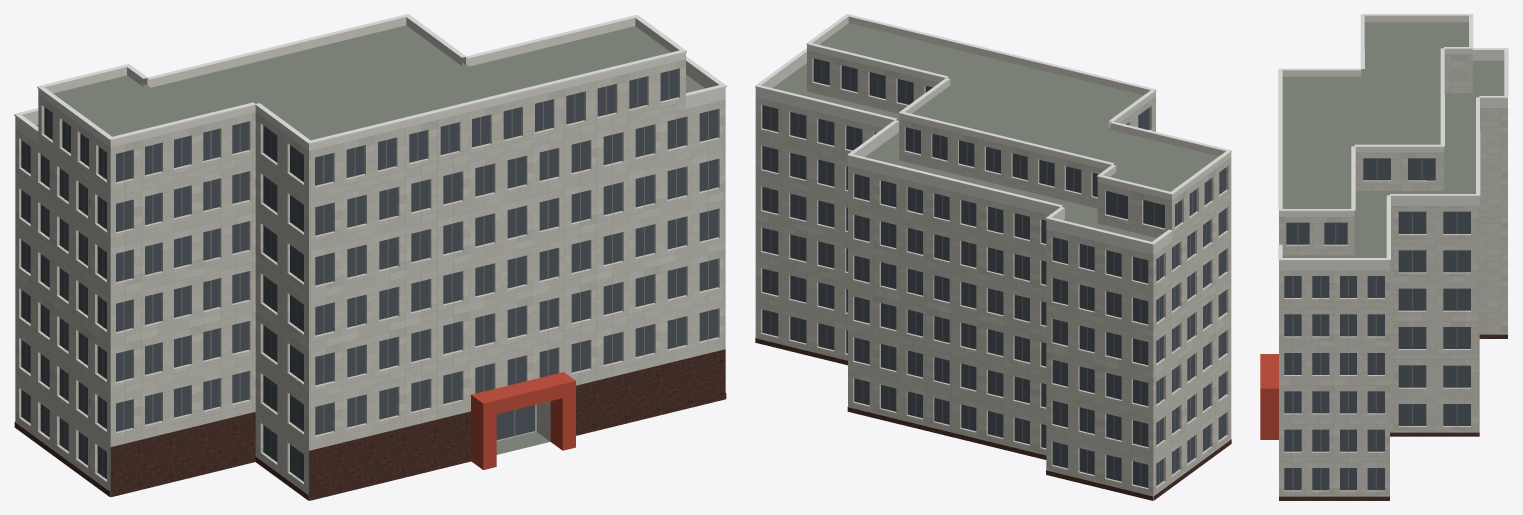
The picture shows the model from 3 angles, left to right: view 1: azimuth 30°, elevation 25°; view 2: azimuth 150°, elevation 25°; view 3: azimuth 270°, elevation 25°; orthographic projection. The views are drawn at different scales.
Visible parts, largest first — view 1: artLecture__wall, artLecture__glass, artLecture__roof, artLecture__base, artLecture__parapet, artLecture__frame, artLecture__trim, artLecture__accent; view 2: artLecture__wall, artLecture__glass, artLecture__roof, artLecture__parapet, artLecture__trim, artLecture__frame, artLecture__base; view 3: artLecture__wall, artLecture__roof, artLecture__glass, artLecture__parapet, artLecture__trim, artLecture__accent, artLecture__frame, artLecture__base.
Part boxes in pixels (x1,y1,x2,y2): artLecture__wall: (15, 59, 725, 500); artLecture__glass: (21, 68, 717, 481); artLecture__roof: (36, 25, 704, 454); artLecture__base: (14, 349, 726, 500); artLecture__parapet: (15, 17, 725, 151); artLecture__frame: (26, 71, 708, 477); artLecture__trim: (14, 14, 726, 144); artLecture__accent: (471, 372, 575, 469); artLecture__wall: (755, 50, 1231, 500); artLecture__glass: (762, 58, 1226, 487); artLecture__roof: (772, 23, 1218, 241); artLecture__parapet: (755, 16, 1231, 255); artLecture__trim: (755, 14, 1231, 245); artLecture__frame: (770, 60, 1222, 486); artLecture__base: (755, 338, 1231, 500); artLecture__wall: (1279, 54, 1507, 496); artLecture__roof: (1282, 22, 1504, 257); artLecture__glass: (1284, 158, 1470, 490); artLecture__parapet: (1279, 15, 1507, 270); artLecture__trim: (1278, 14, 1508, 260); artLecture__accent: (1260, 354, 1278, 439); artLecture__frame: (1292, 158, 1457, 490); artLecture__base: (1279, 334, 1507, 500).
Bounding box in the file's own units: 42.54 × 25.8 × 21.09.
9 materials, 2 textured.
